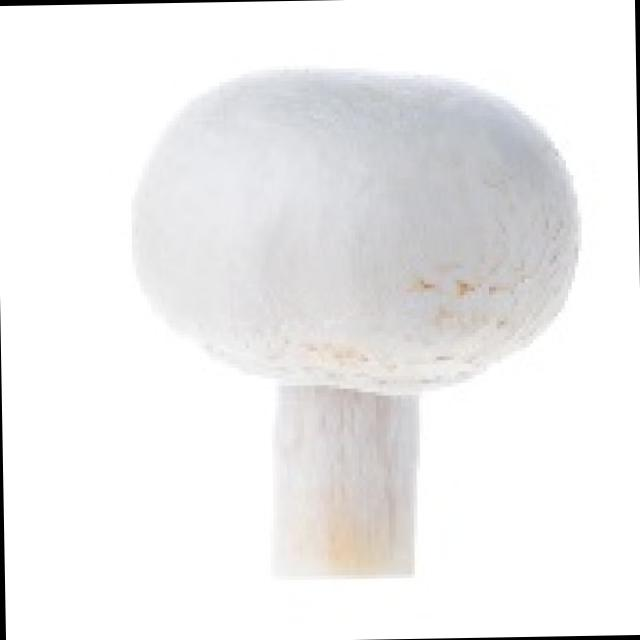mushroom: (118, 45, 587, 582)
